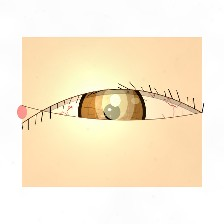corneal_ulcer: (87, 81, 143, 125)
